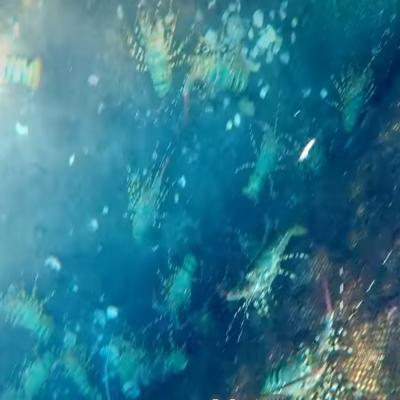lobster: (264, 334, 331, 398), (242, 223, 295, 298), (185, 39, 249, 92), (123, 166, 168, 241), (137, 10, 173, 95), (4, 279, 55, 332), (245, 124, 282, 194), (333, 59, 370, 128), (162, 254, 194, 315)
